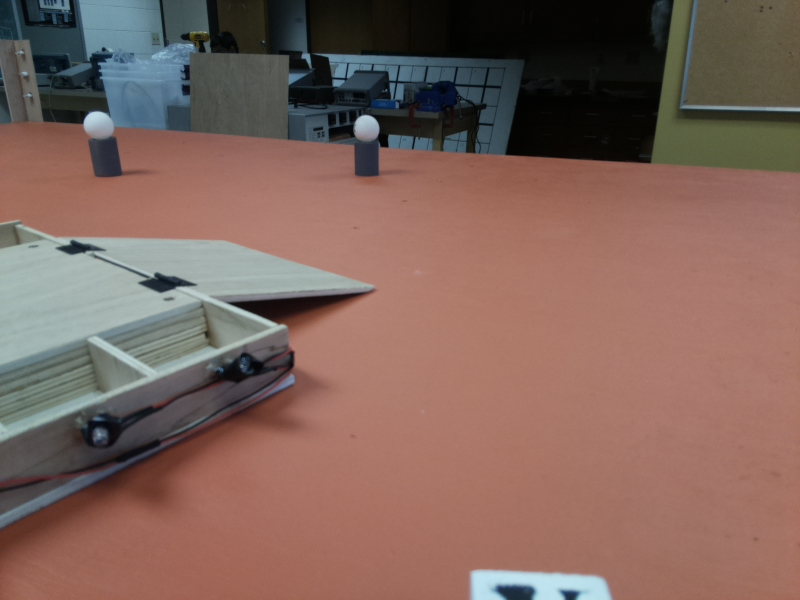corner: (3, 40, 40, 124)
obstacle: (349, 113, 384, 184), (86, 111, 122, 179)
side: (1, 324, 292, 522), (138, 231, 373, 315)
